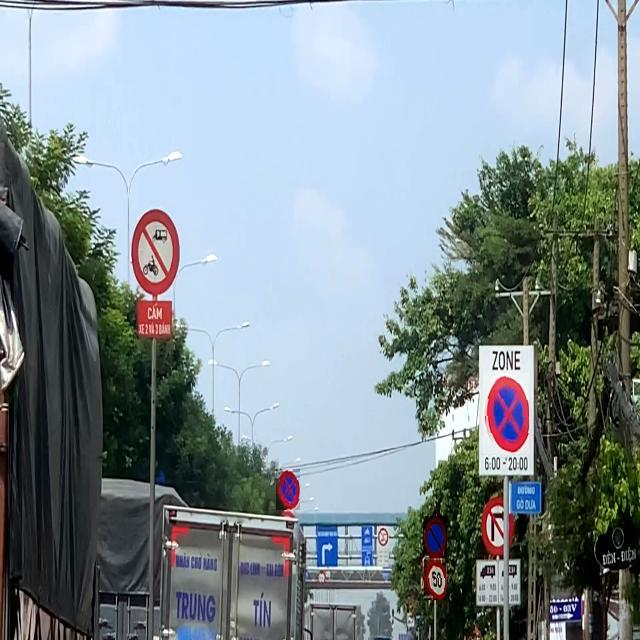P-127: (424, 561, 446, 601)
P-130: (483, 373, 529, 454), (276, 469, 300, 510)
P-131a: (423, 516, 447, 558)
